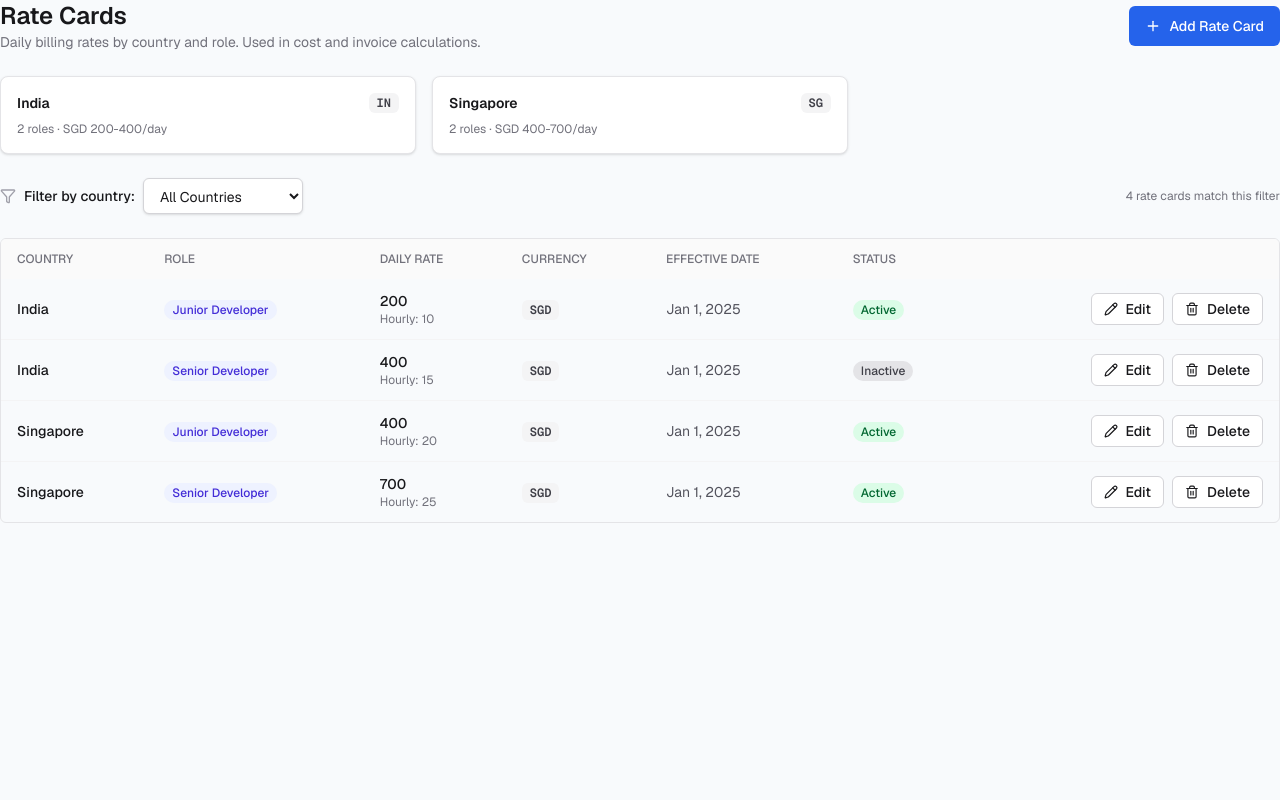
it: RateCardsTable › closes the confirm dialog without deleting when cancelled
Check: the text "2 roles · SGD 400-700/day" is shown, box left=449, top=121, right=597, bottom=137
What coordinates should you click on to do the following:
click the button "Delete" in the row of "10"
I would click on:
 (1217, 309)
Its box is left=1172, top=293, right=1263, bottom=325.
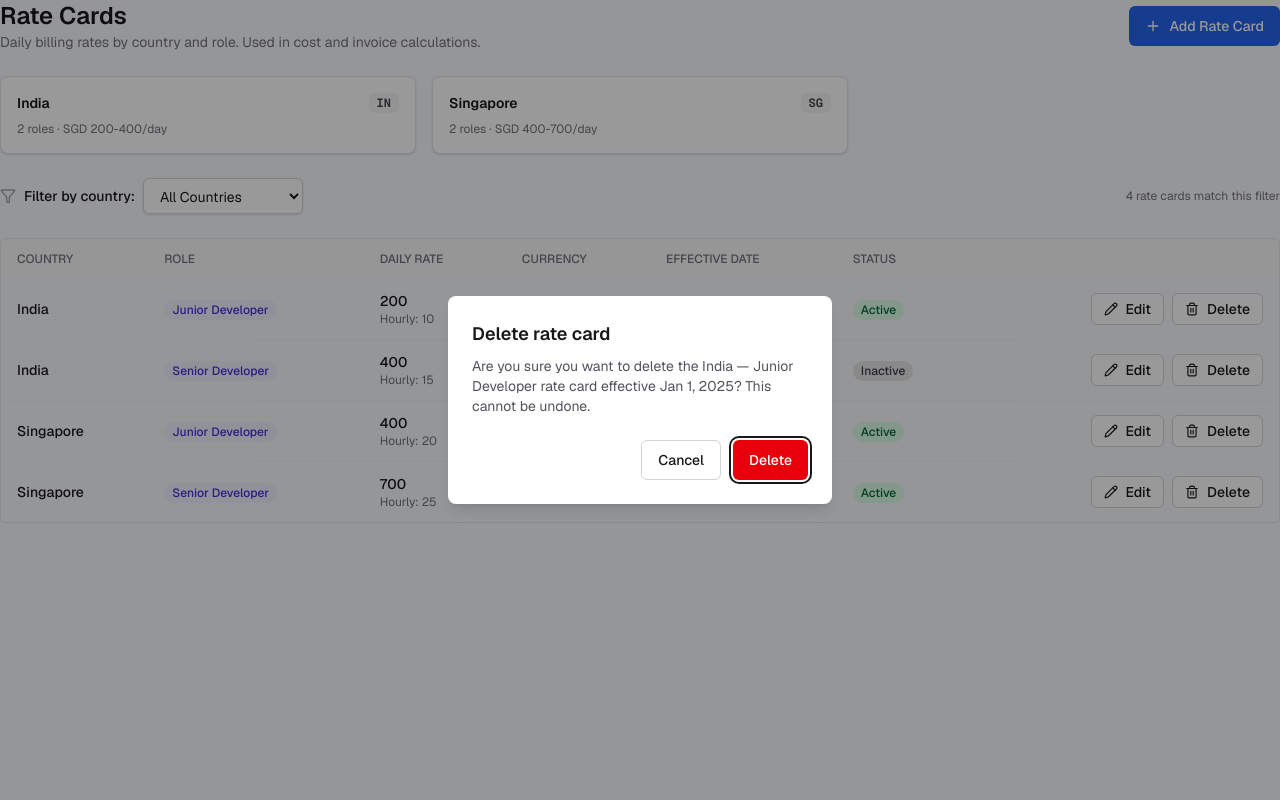
What coordinates should you click on to do the following:
click the button "Cancel"
I would click on:
 (681, 460)
Its box is left=641, top=440, right=721, bottom=480.
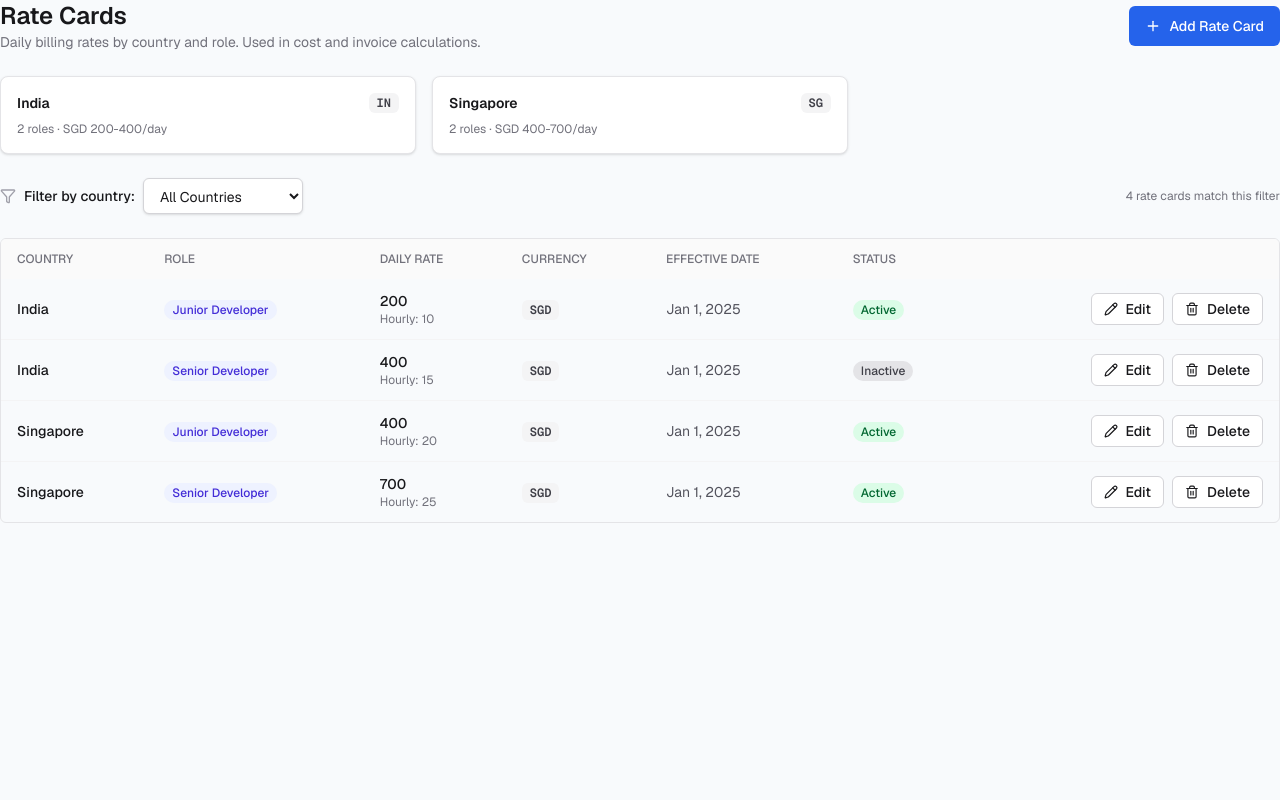
Check: the dialog is gone
